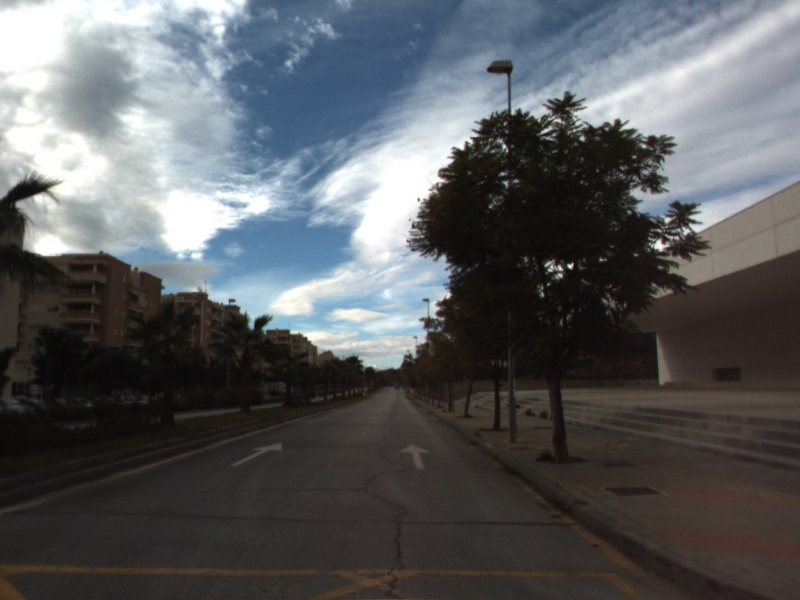STRAIGHT: (229, 440, 285, 468), (398, 442, 432, 471)
